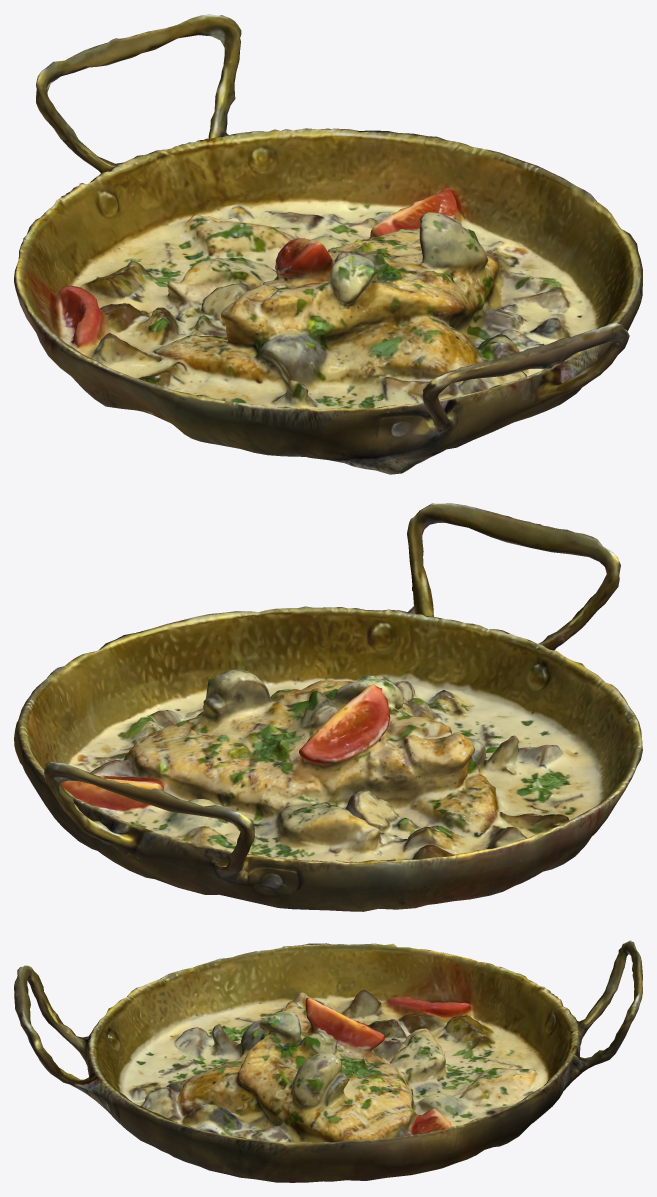
Rendered from supreme-de-poulet-aux-champignons.ar.glb.
The picture shows the model from 3 angles, top to bottom: view 1: azimuth 30°, elevation 25°; view 2: azimuth 150°, elevation 25°; view 3: azimuth 270°, elevation 25°; orthographic projection. The views are drawn at different scales.
Visible parts, largest first — view 1: /ObjectCapture/Geometry/Mesh; view 2: /ObjectCapture/Geometry/Mesh; view 3: /ObjectCapture/Geometry/Mesh.
Boxes of the visible parts, left/top/right/bottom form: /ObjectCapture/Geometry/Mesh: left=14, top=14, right=642, bottom=474; /ObjectCapture/Geometry/Mesh: left=14, top=503, right=642, bottom=911; /ObjectCapture/Geometry/Mesh: left=14, top=940, right=642, bottom=1182.
Bounding box in the file's own units: 0.2313 × 0.0735 × 0.2967.
Materials: 1 (1 with a texture image).
